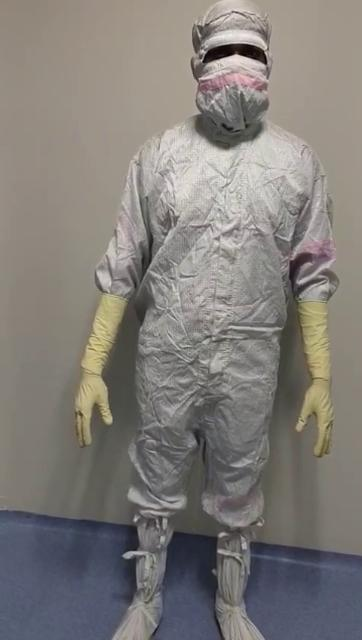gloves_fitted_securely: (66, 274, 142, 454), (269, 290, 341, 474)
headgear_secured: (184, 11, 276, 155)
zip_secured: (195, 150, 241, 428)
